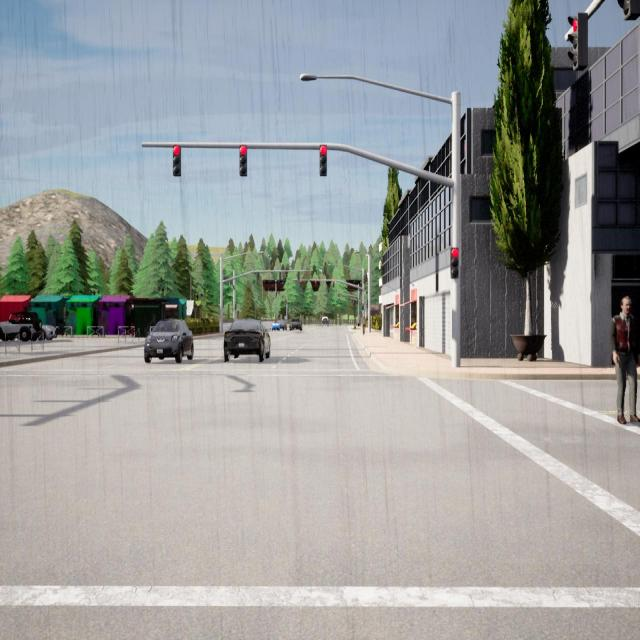Pedestrian: (610, 296, 640, 424), (362, 315, 366, 336)
Vehicle: (144, 320, 194, 363), (223, 318, 270, 363), (0, 311, 40, 341), (40, 325, 56, 340), (290, 318, 302, 331), (277, 320, 288, 330), (322, 316, 328, 327), (272, 322, 280, 330)
traffic_light: (567, 12, 588, 71), (617, 0, 640, 21), (450, 247, 459, 279), (240, 144, 248, 176), (319, 145, 327, 176), (172, 145, 180, 176), (279, 271, 282, 281), (297, 271, 300, 281), (257, 272, 260, 280), (300, 280, 302, 288), (315, 280, 317, 288), (332, 281, 334, 288), (363, 276, 365, 283), (362, 304, 364, 310), (330, 298, 332, 303), (338, 292, 340, 297), (223, 300, 224, 309), (348, 300, 350, 304), (365, 275, 366, 282), (366, 274, 367, 281), (235, 304, 236, 310), (339, 299, 340, 303)
